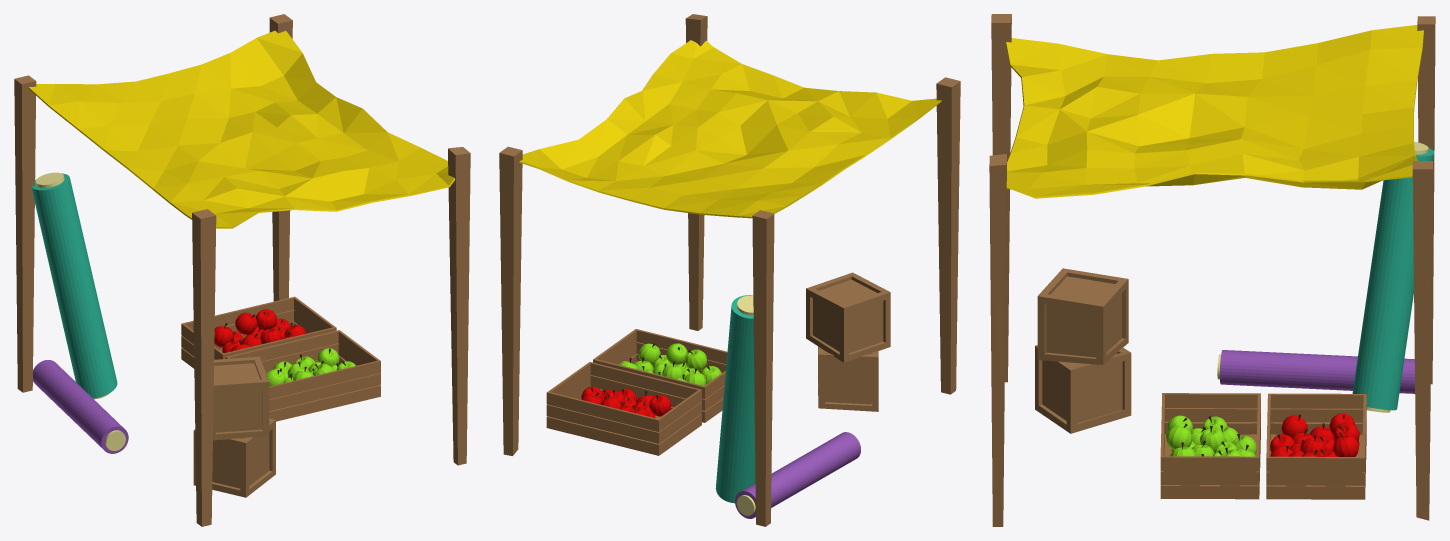
File: SL_Shop5.fbx
The picture shows the model from 3 angles, left to right: view 1: azimuth 30°, elevation 25°; view 2: azimuth 150°, elevation 25°; view 3: azimuth 270°, elevation 25°; orthographic projection. The views are drawn at different scales.
Visible parts, largest first — view 1: SL_Shop.014; view 2: SL_Shop.014; view 3: SL_Shop.014.
Boxes of the visible parts, x1,y1,x2,y2 form: SL_Shop.014: [14, 14, 470, 526]; SL_Shop.014: [499, 14, 960, 526]; SL_Shop.014: [989, 14, 1435, 526].
Size of the model in its own units: 608 by 672 by 738.
